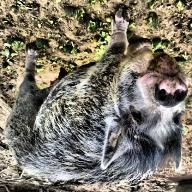boar: (0, 4, 188, 192)
